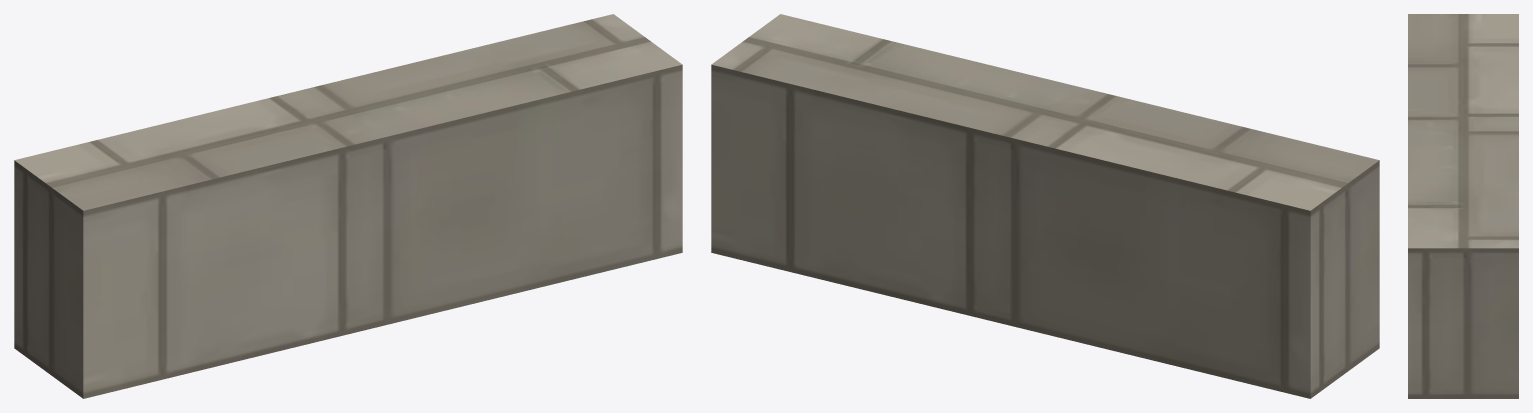
File: edge.glb
3 views of the same model, side by side, from view 1: azimuth 30°, elevation 25°; view 2: azimuth 150°, elevation 25°; view 3: azimuth 270°, elevation 25° (orthographic). The views are drawn at different scales.
Parts seen in each view (by area): view 1: moat.edge; view 2: moat.edge; view 3: moat.edge.
Part boxes in pixels (x1,y1,x2,y2): moat.edge: [14, 14, 682, 398]; moat.edge: [711, 14, 1379, 398]; moat.edge: [1408, 14, 1518, 398].
Size of the model in its own units: 1 by 0.3 by 0.2.
Materials: 1 (1 with a texture image).
